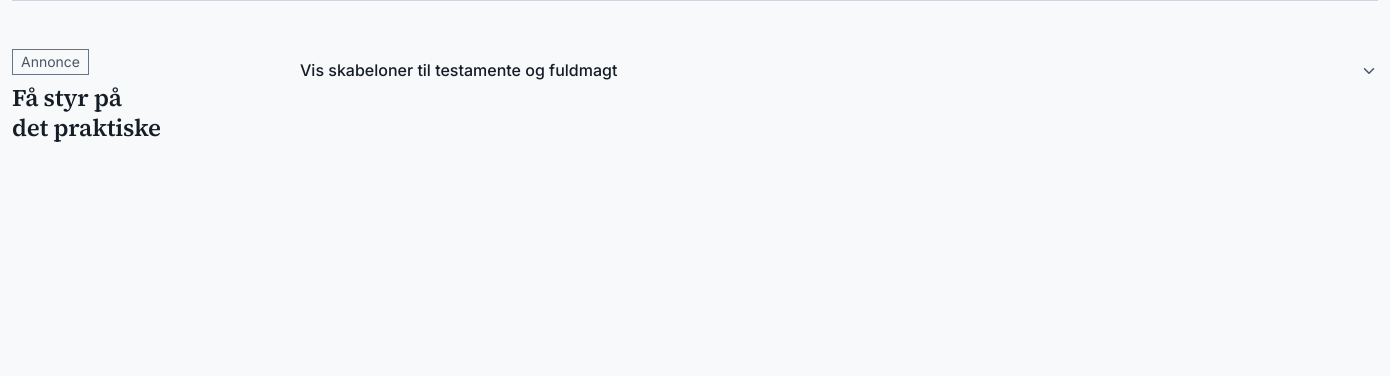
Test: PraktiskePapirer › starts collapsed on a narrow screen: no links, no impression until it is opened
Click the button "Vis skabeloner til testamente og fuldmagt".
click(471, 70)  # box [300, 49, 1378, 93]
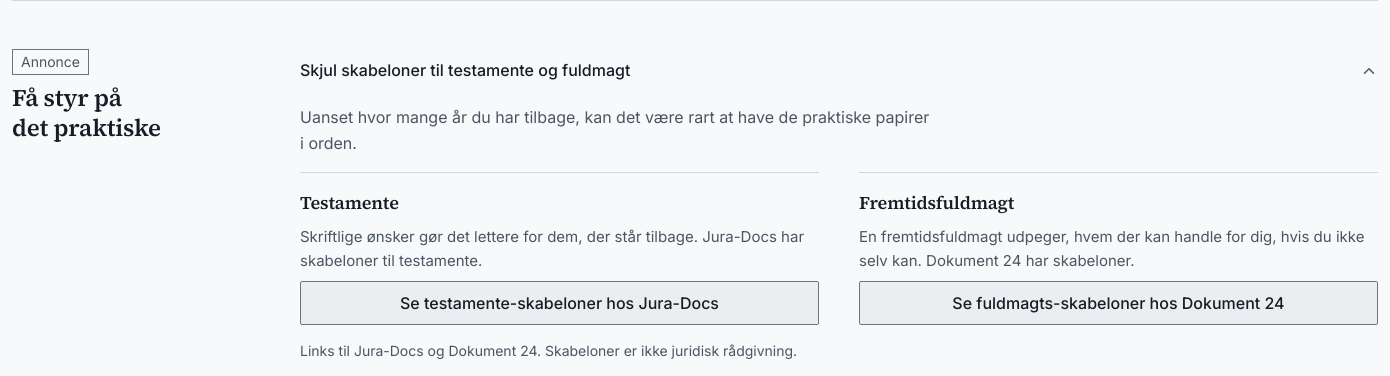
Expected: the button "Skjul skabeloner til testamente og fuldmagt" is expanded, [300, 49, 1378, 93]
Expected: the number of links is 2, [300, 281, 819, 325]; [859, 281, 1378, 325]
